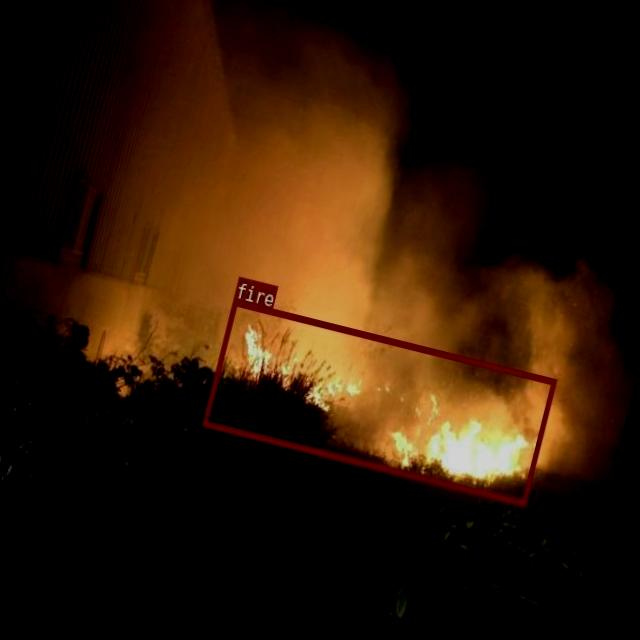fire: (200, 296, 556, 506)
